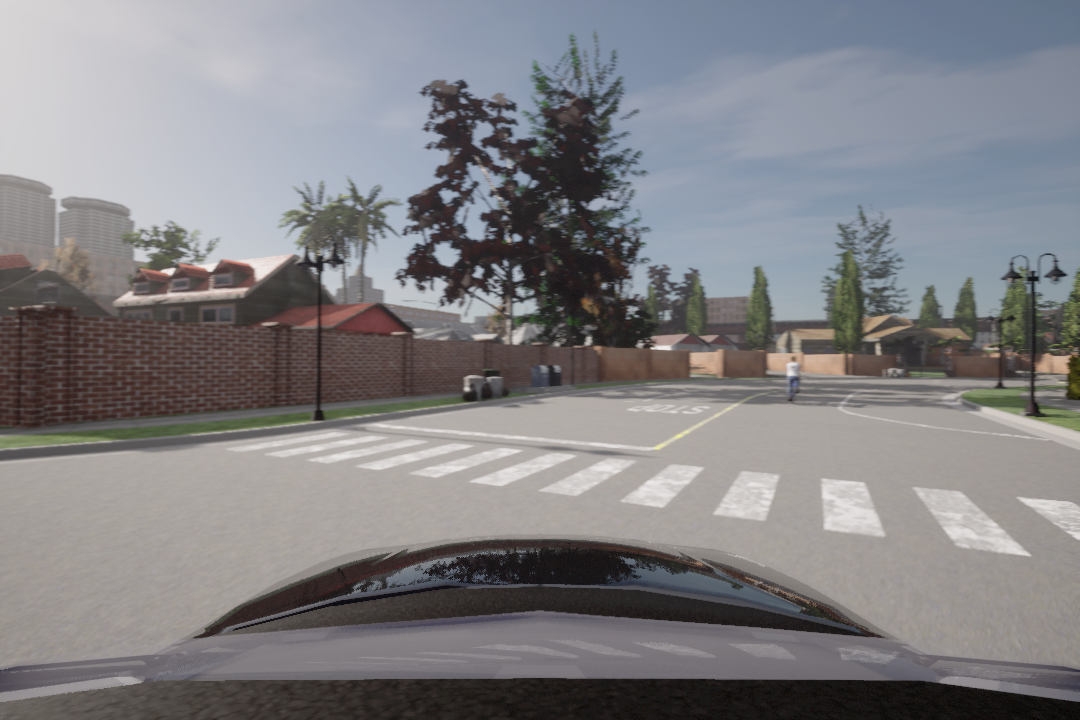walkside: (219, 427, 1080, 563)
